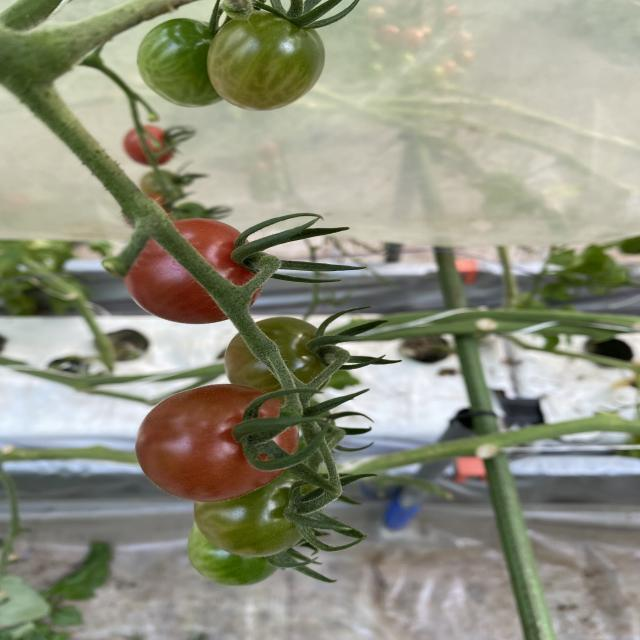c-half-riped: (206, 10, 326, 111), (225, 316, 332, 404)
c-riped: (135, 384, 299, 502), (124, 217, 265, 324)
c-unriped: (194, 469, 323, 558), (136, 18, 223, 108), (186, 518, 283, 587)
